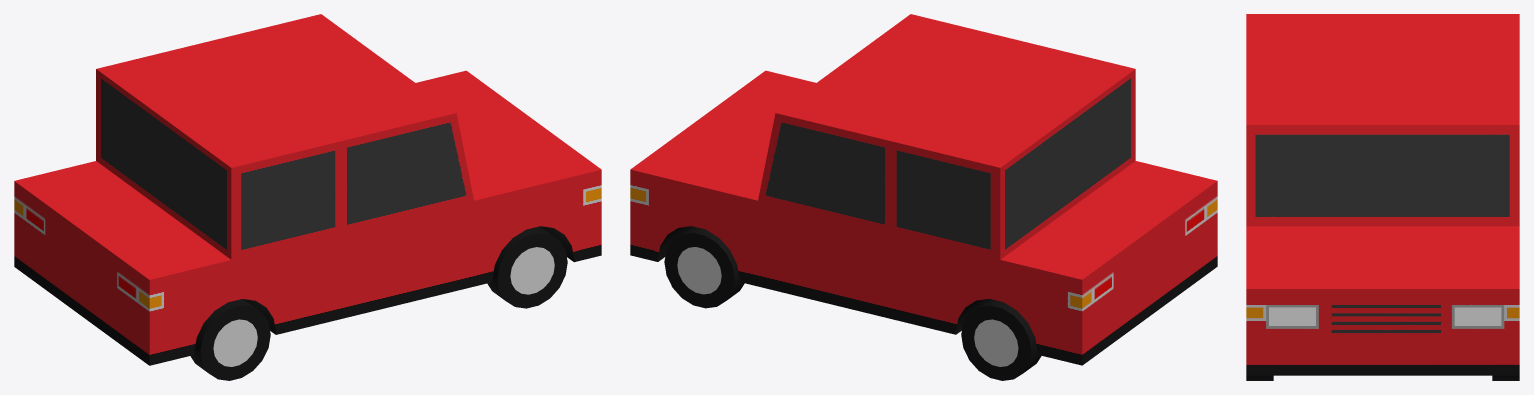
Rendered from SedanRace.FBX.
3 renders of one model, left to right at view 1: azimuth 30°, elevation 25°; view 2: azimuth 150°, elevation 25°; view 3: azimuth 270°, elevation 25°, orthographic.
Visible parts, largest first — view 1: Box001, Object002, Object003; view 2: Box001, Object001, Object004; view 3: Box001.
Boxes of the visible parts, bbox=[...] form: Box001: bbox=[14, 14, 601, 365]; Object002: bbox=[190, 299, 270, 380]; Object003: bbox=[487, 226, 567, 308]; Box001: bbox=[630, 14, 1217, 365]; Object001: bbox=[961, 299, 1041, 380]; Object004: bbox=[664, 226, 744, 308]; Box001: bbox=[1246, 14, 1519, 375].
Size of the model in its own units: 38.58 by 17.34 by 20.
